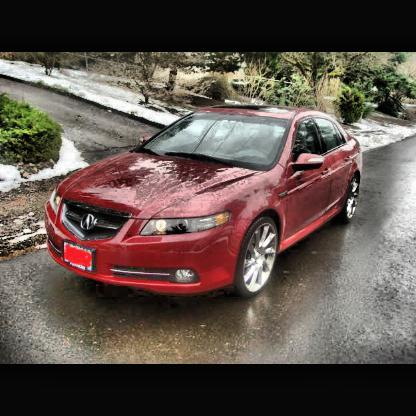Acura TL Type-S 2008: (47, 107, 363, 299)
